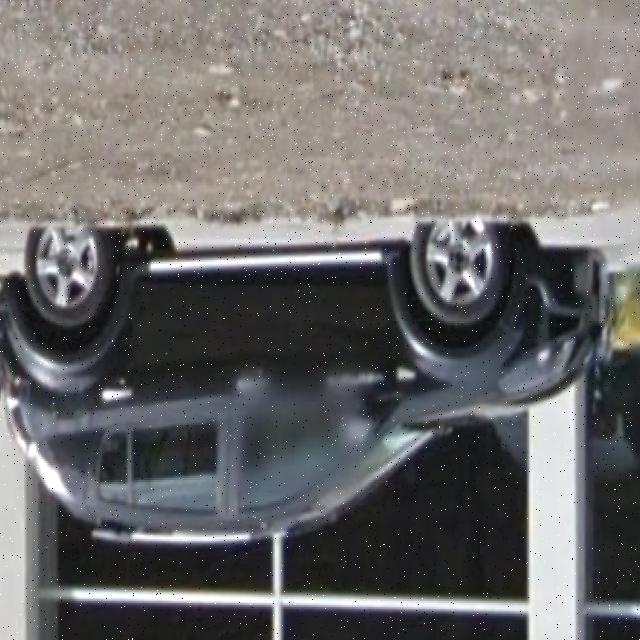car: (2, 220, 616, 540)
